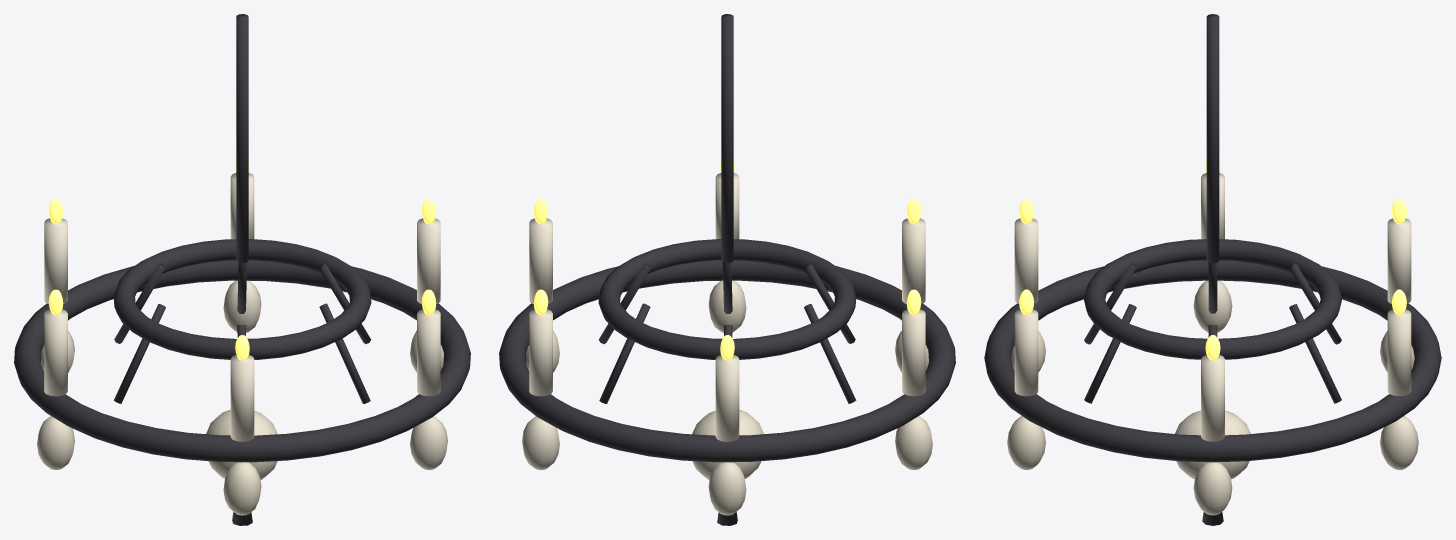
Rendered from chandelier.glb.
3 views of the same model, side by side, from view 1: azimuth 30°, elevation 25°; view 2: azimuth 150°, elevation 25°; view 3: azimuth 270°, elevation 25° (orthographic).
Parts seen in each view (by area): view 1: GD_chandelier; view 2: GD_chandelier; view 3: GD_chandelier.
Boxes of the visible parts, left/top/right/bottom form: GD_chandelier: left=14, top=14, right=470, bottom=525; GD_chandelier: left=499, top=14, right=955, bottom=525; GD_chandelier: left=984, top=14, right=1441, bottom=525.
Bounding box in the file's own units: 0.8685 × 1.04 × 0.85.
